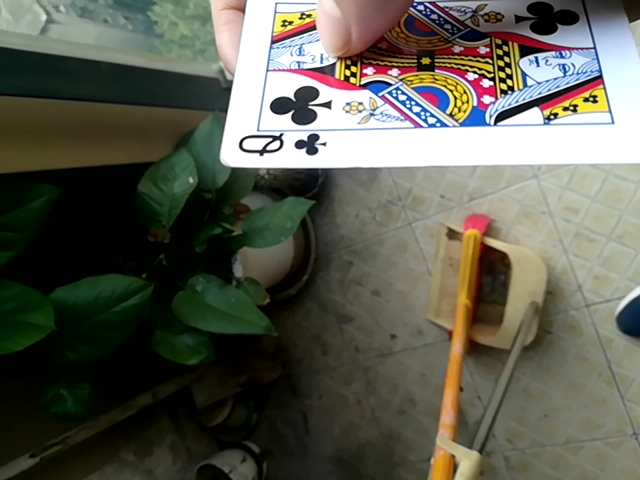mh q: (207, 0, 640, 165)
